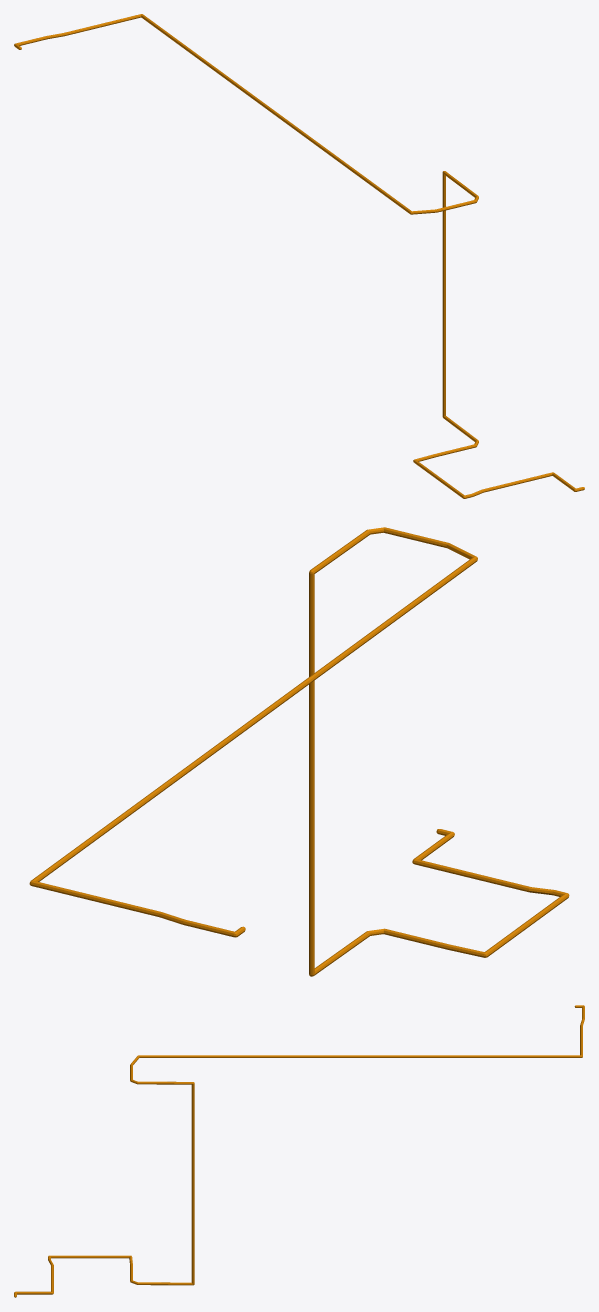
3 renders of one model, top to bottom at view 1: azimuth 30°, elevation 25°; view 2: azimuth 150°, elevation 25°; view 3: azimuth 270°, elevation 25°, orthographic. The views are drawn at different scales.
Bounding box in the file's own units: 1445 × 1520 × 3868.
